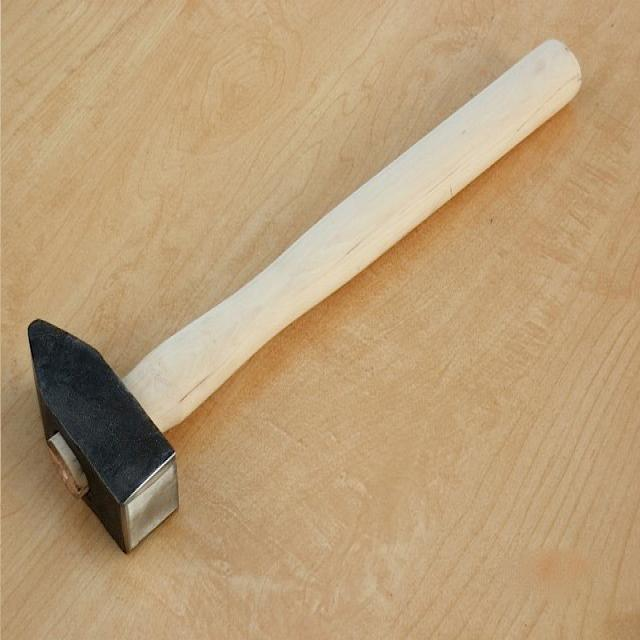hammer: (25, 36, 587, 555)
